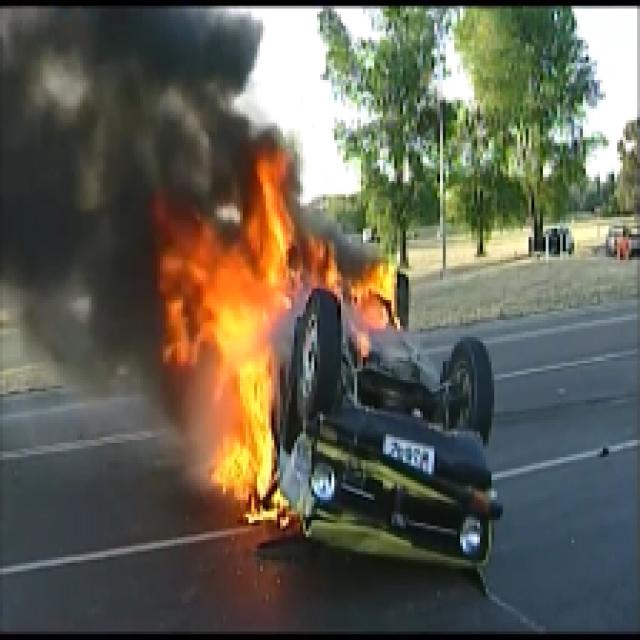fire: (204, 197, 290, 532)
smoke: (16, 9, 155, 330), (162, 24, 248, 173)
